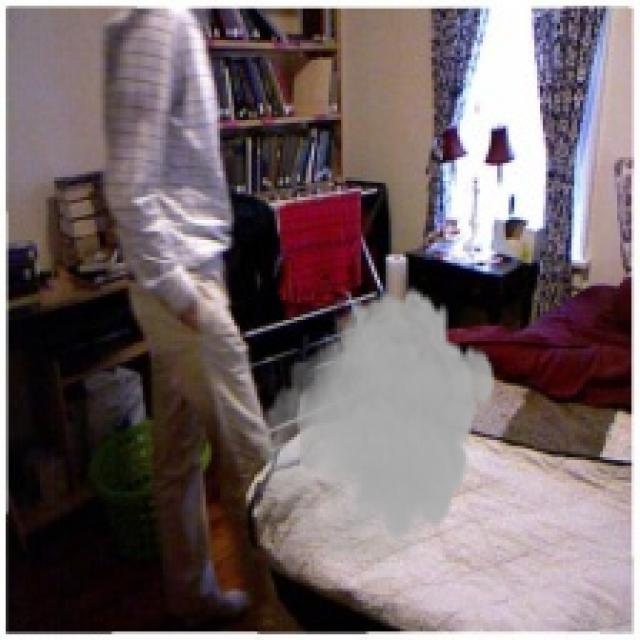Smoke: (242, 283, 498, 563)
